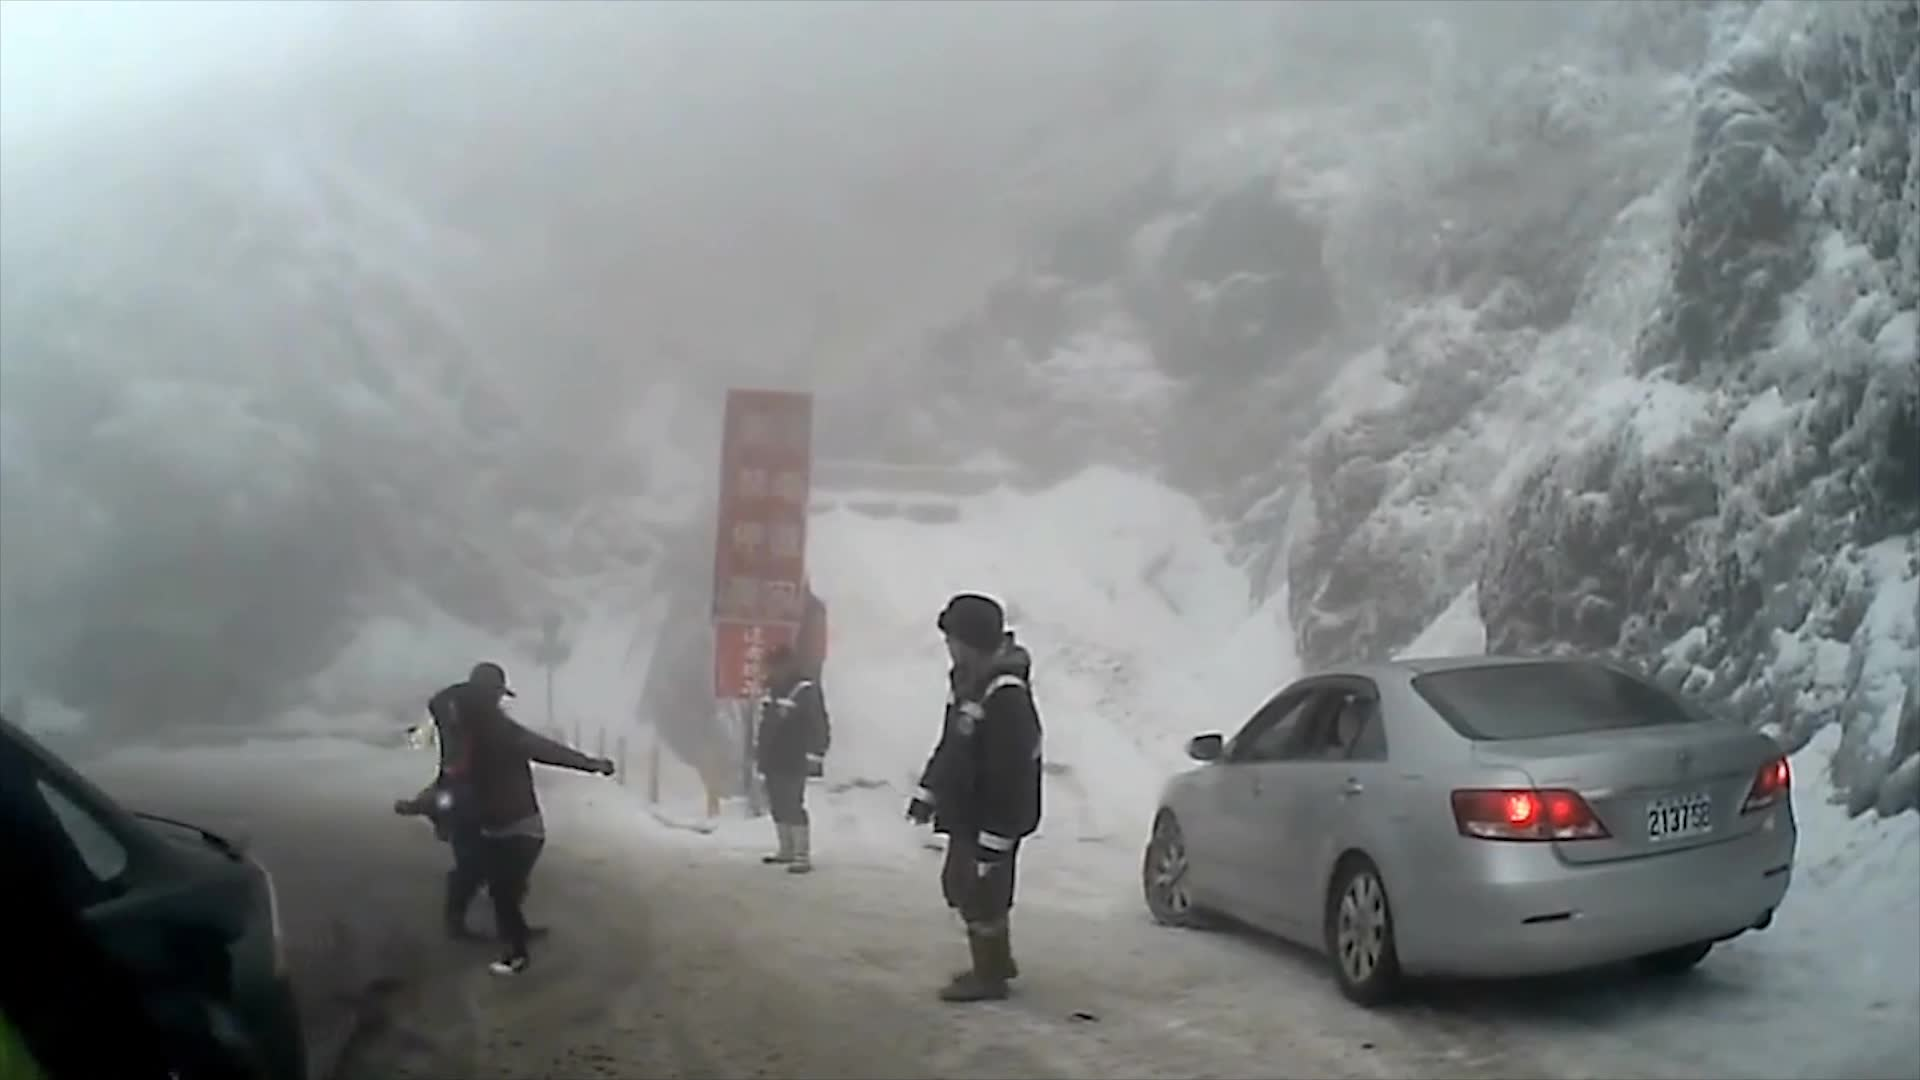pedestrian: (397, 681, 608, 976), (901, 585, 1046, 1006), (757, 636, 835, 875), (771, 566, 833, 745)
vehicle: (1138, 650, 1797, 1004), (0, 716, 310, 1079)
